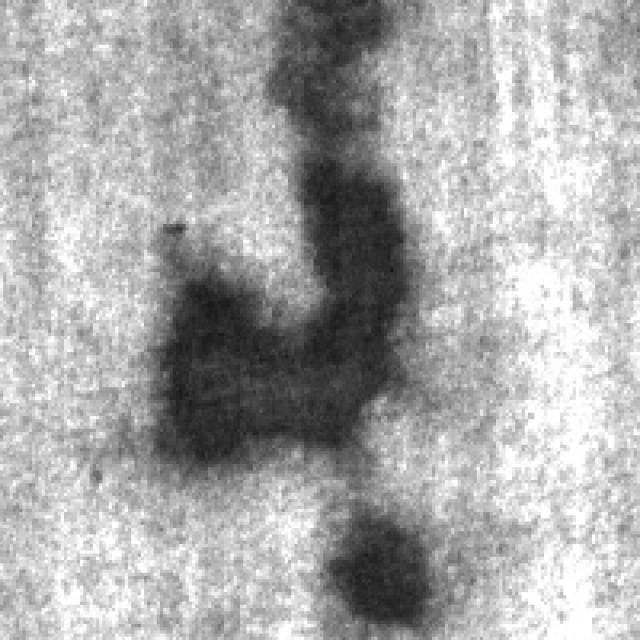patches: (148, 147, 406, 474), (262, 0, 384, 141), (323, 499, 422, 624)
